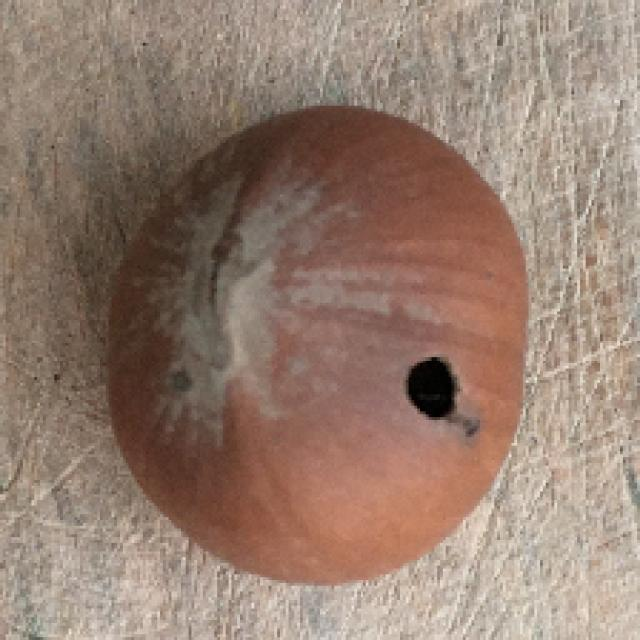DamagedHazelnut: (106, 104, 531, 588)
